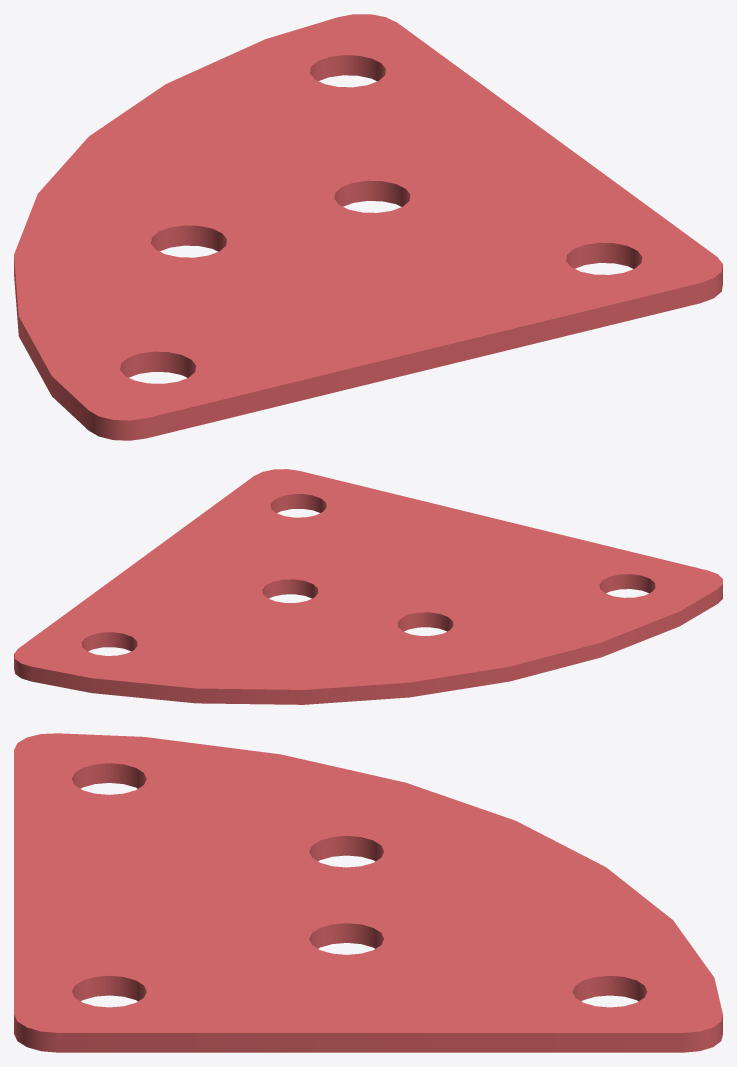
3 views of the same model, one above another, from view 1: azimuth 30°, elevation 25°; view 2: azimuth 150°, elevation 25°; view 3: azimuth 270°, elevation 25° (orthographic). The views are drawn at different scales.
Visible parts, largest first — view 1: sphere; view 2: sphere; view 3: sphere.
Boxes of the visible parts, x1,y1,x2,y2 form: sphere: (14,14,722,440); sphere: (14,469,722,704); sphere: (14,733,722,1052).
Bounding box in the file's own units: 1.56 × 0.048 × 1.56.
